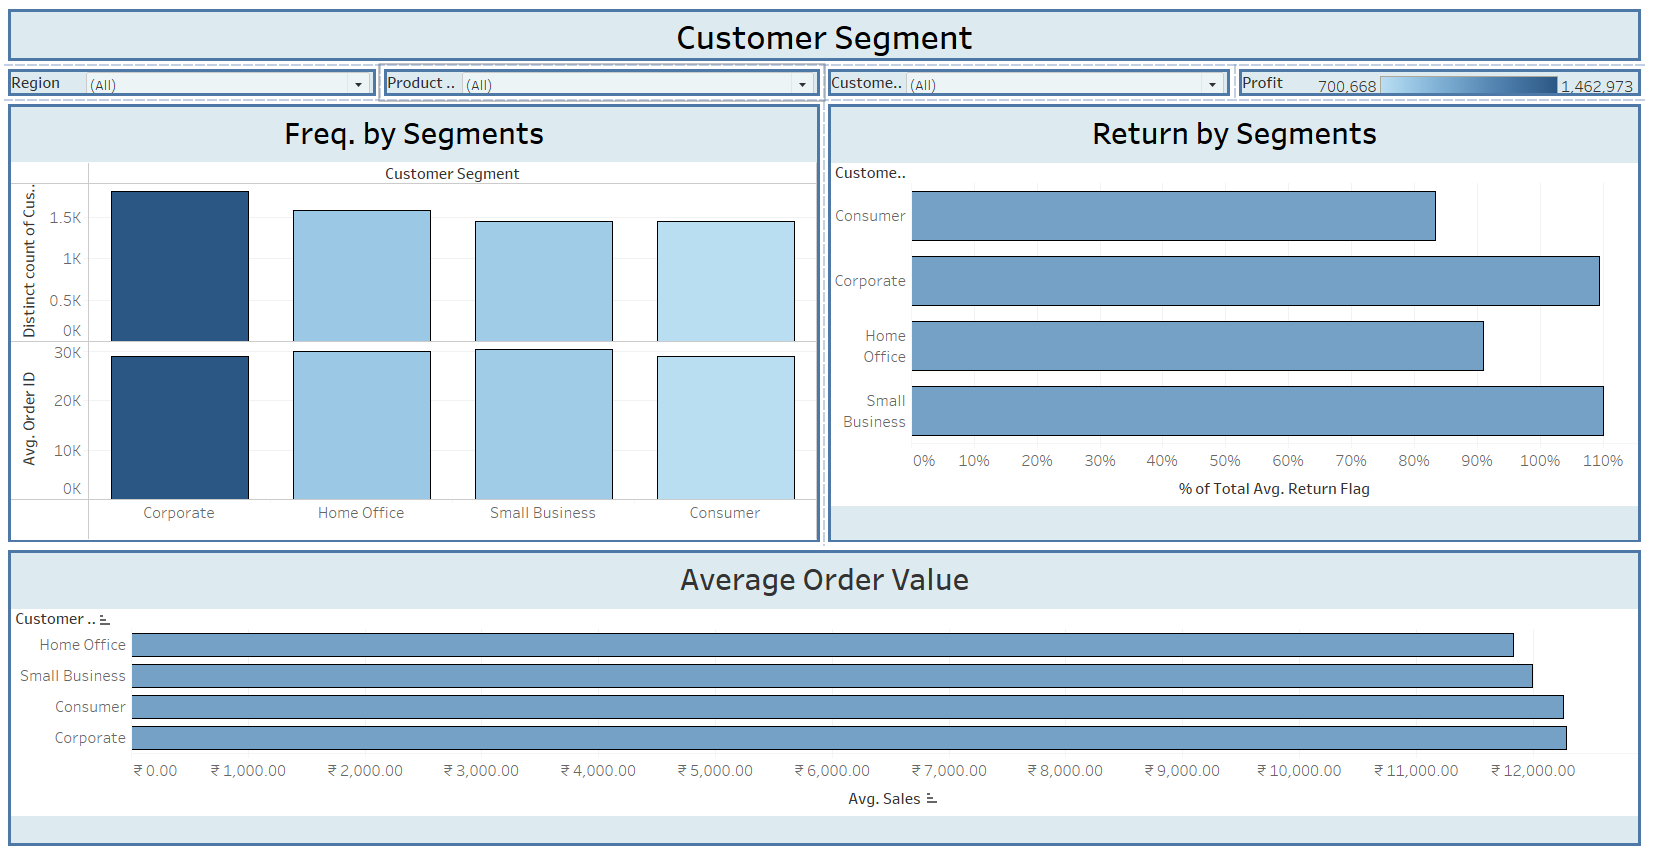

Layout of this report page (visuals, bound fields, positions):
{"tool":"tableau","page":{"name":"Customer Segment ","canvas":[1000,1000],"units":"permille","ordinal":0},"visuals":[{"type":"text","box":[4.8,10,990.3,69.9]},{"type":"filter","title":"Freq. by Segments","param":"[federated.0lc2qp609r7qte17zzql31nmvyj1].[none:Region:nk]","box":[4.8,79.9,227.2,40.1]},{"type":"filter","title":"Freq. by Segments","param":"[federated.0lc2qp609r7qte17zzql31nmvyj1].[none:Product Category:nk]","box":[232,79.9,268,40.1]},{"type":"filter","title":"Freq. by Segments","param":"[federated.0lc2qp609r7qte17zzql31nmvyj1].[none:Customer Segment:nk]","box":[500,79.9,247.6,40.1]},{"type":"legend","title":"Freq. by Segments","param":"[federated.0lc2qp609r7qte17zzql31nmvyj1].[sum:Profit:qk]","box":[747.5,79.9,247.6,40.1]},{"type":"worksheet","title":"Freq. by Segments","mark":"Automatic","rows":["Customer Name","Order ID"],"cols":["Customer Segment"],"box":[4.8,120,495.2,517.9]},{"type":"worksheet","title":"Return by Segments","mark":"Automatic","rows":["Customer Segment"],"cols":["Calculation_1528127672898617344"],"box":[500,120,495.2,517.9]},{"type":"worksheet","title":"AOV","mark":"Automatic","rows":["Customer Segment"],"cols":["Sales"],"box":[4.8,637.9,990.3,352.1]}]}

Visuals, with their boxes on the dashboard's canvas, which has no fixed pixel size, in thousandths of its width and height (x1, y1, x2, y2). These are canvas units, not pixel positions in the 1653x857 screenshot, which may show the page scaled, cropped or inside an application window:
text: x1=5 y1=10 x2=995 y2=80
"Freq. by Segments" filter: x1=5 y1=80 x2=232 y2=120
"Freq. by Segments" filter: x1=232 y1=80 x2=500 y2=120
"Freq. by Segments" filter: x1=500 y1=80 x2=748 y2=120
"Freq. by Segments" legend: x1=748 y1=80 x2=995 y2=120
"Freq. by Segments" worksheet: x1=5 y1=120 x2=500 y2=638
"Return by Segments" worksheet: x1=500 y1=120 x2=995 y2=638
"AOV" worksheet: x1=5 y1=638 x2=995 y2=990
